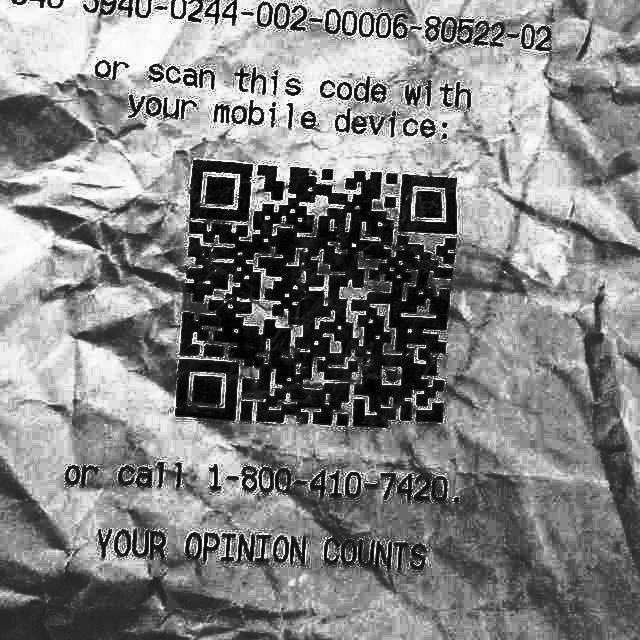qr_code: (169, 144, 468, 437)
